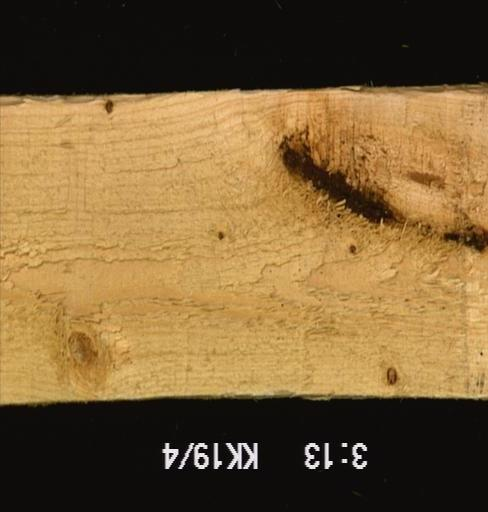dry_knot: (384, 365, 398, 386)
edge_knot: (103, 99, 114, 116)
small_knot: (214, 229, 225, 243)
sound_knot: (30, 291, 133, 398)
wave: (0, 93, 181, 108)
